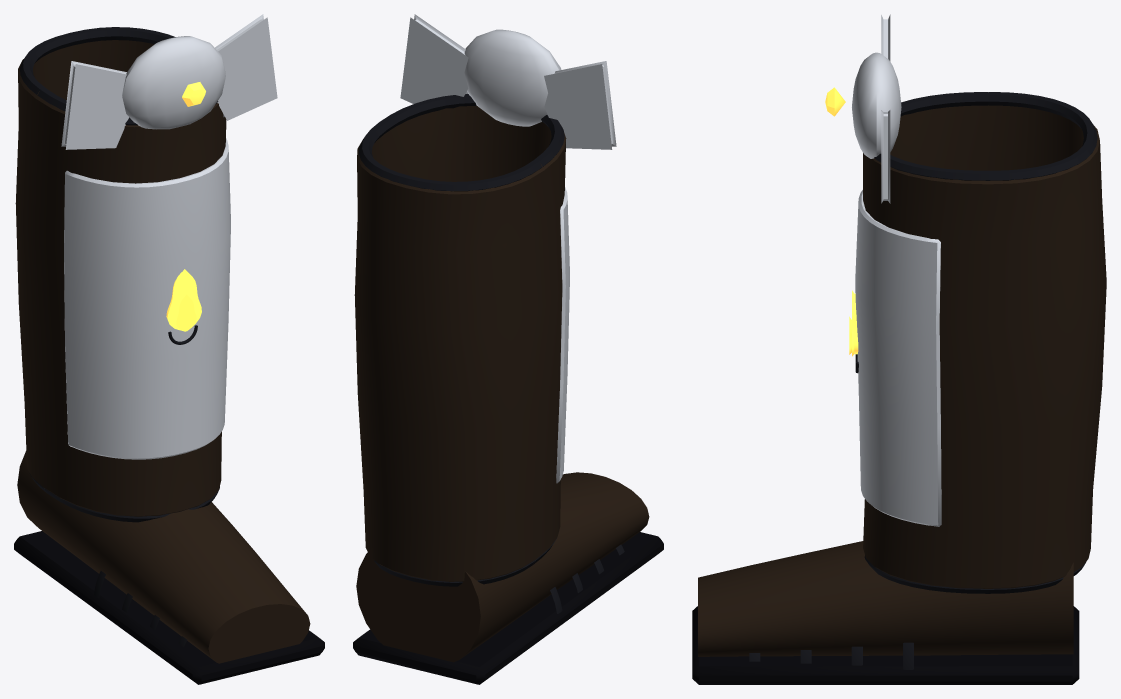
Rendered from esc_ashfall_pathfinder_boots_R.glb.
3 views of the same model, side by side, from view 1: azimuth 30°, elevation 25°; view 2: azimuth 150°, elevation 25°; view 3: azimuth 270°, elevation 25° (orthographic). The views are drawn at different scales.
Parts seen in each view (by area): view 1: esc_ashfall_pathfinder_boots, AT_foot_R; view 2: esc_ashfall_pathfinder_boots, AT_foot_R; view 3: esc_ashfall_pathfinder_boots, AT_foot_R.
Part boxes in pixels (bbox=[...]): esc_ashfall_pathfinder_boots: bbox=[15, 14, 277, 522]; AT_foot_R: bbox=[14, 451, 324, 684]; esc_ashfall_pathfinder_boots: bbox=[354, 14, 616, 586]; AT_foot_R: bbox=[353, 472, 663, 684]; esc_ashfall_pathfinder_boots: bbox=[825, 14, 1106, 593]; AT_foot_R: bbox=[692, 541, 1079, 684].
Size of the model in its own units: 0.2244 by 0.5768 by 0.3641.
